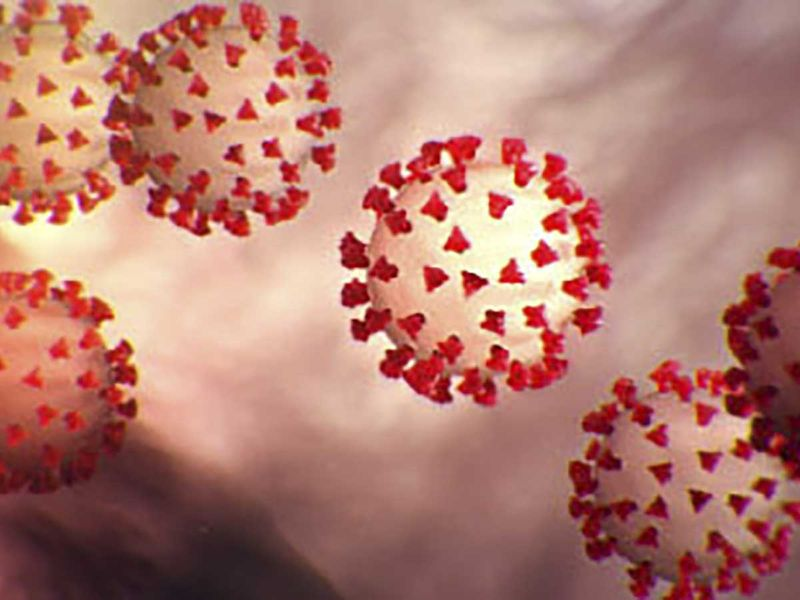COVID19: (344, 129, 623, 427), (85, 2, 351, 229)
